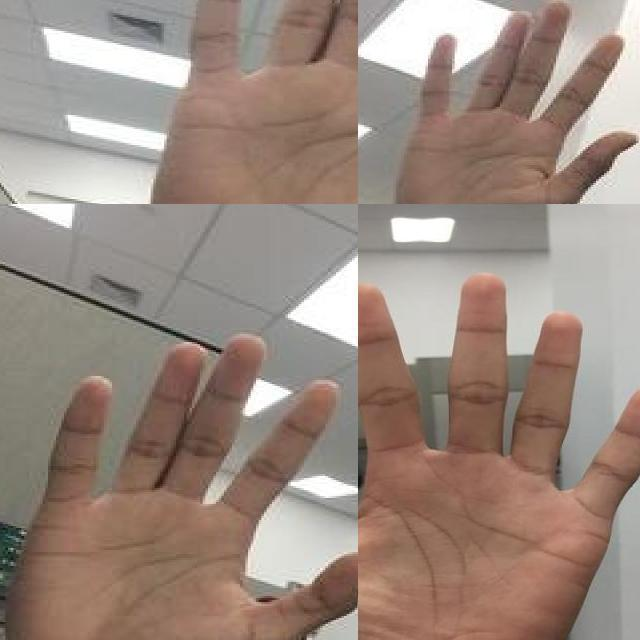no-gloves: (0, 330, 358, 640), (358, 270, 640, 640), (393, 0, 639, 204), (142, 0, 358, 204)
